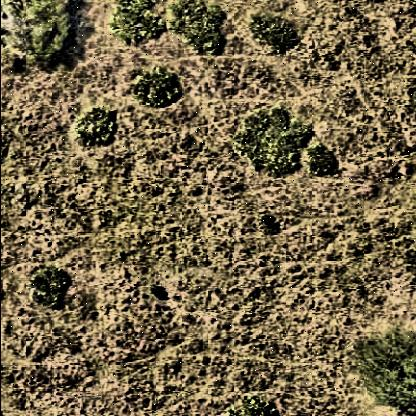tree-top: (233, 105, 314, 174), (357, 324, 416, 412), (10, 3, 76, 69), (171, 2, 229, 60), (250, 10, 304, 62), (29, 262, 77, 317), (70, 99, 120, 151), (129, 67, 185, 113), (115, 1, 163, 49), (303, 144, 340, 184), (221, 394, 284, 416)
